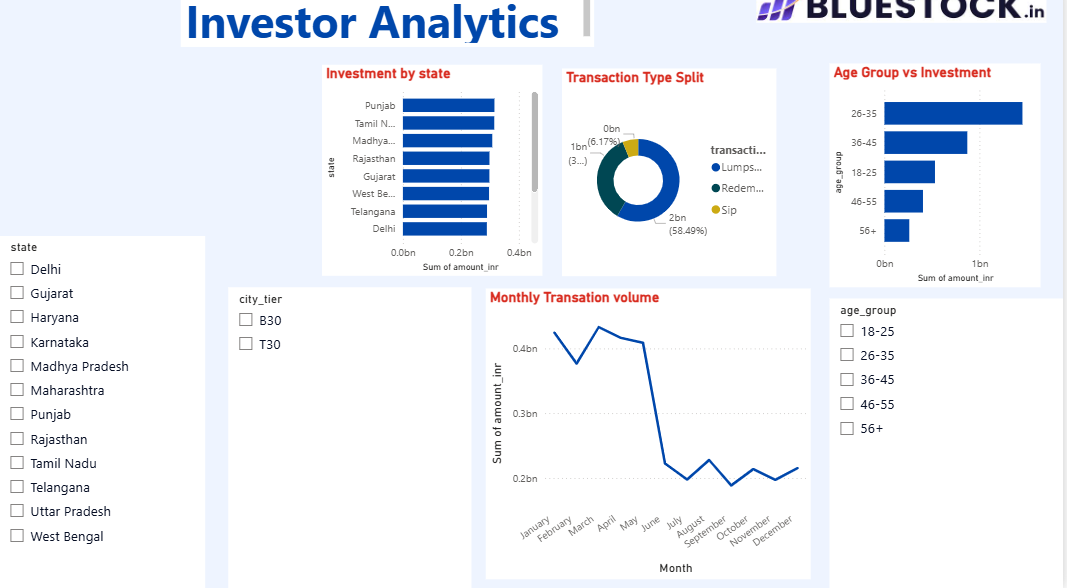

This screenshot's page, from the dashboard's own definition file:
{"tool":"powerbi","page":{"name":"Investor Analytics","canvas":[1280,720],"ordinal":2},"visuals":[{"type":"barChart","title":"Investment by state","fields":{"Category":["clean_transactions.state"],"Y":["Sum(clean_transactions.amount_inr)"]},"box":[9.6,0,279.9,279.9],"z":0},{"type":"donutChart","title":" Transaction Type Split","fields":{"Category":["clean_transactions.transaction_type"],"Y":["Sum(clean_transactions.amount_inr)"]},"box":[299.1,59,279.9,279.9],"z":1000},{"type":"clusteredBarChart","title":"Age Group vs Investment","fields":{"Category":["clean_transactions.age_group"],"Y":["Sum(clean_transactions.amount_inr)"]},"box":[849.4,79.6,279.9,279.9],"z":2000},{"type":"slicer","fields":{"Values":["clean_transactions.state"]},"box":[9.6,297.8,245.6,422.6],"z":3000},{"type":"slicer","fields":{"Values":["clean_transactions.city_tier"]},"box":[267.6,359.5,290.9,360.9],"z":4000},{"type":"lineChart","title":" Monthly Transation volume","fields":{"Category":["clean_transactions.transaction_date.Variation.Date Hierarchy.Month"],"Y":["Sum(clean_transactions.amount_inr)"]},"box":[612,373.2,387,347.2],"z":4001},{"type":"image","title":"investor Analytics","box":[439.1,0,388.3,79.6],"z":4002},{"type":"slicer","fields":{"Values":["clean_transactions.age_group"]},"box":[999,373,281,347],"z":4003},{"type":"textbox","box":[944.1,17.8,336.2,61.7],"z":4004}]}

Visuals, with their boxes in screenshot pixels (x1, y1, x2, y2), scaled from the page's 1280x720 canvas onto the 1067x588 screenshot:
"Investment by state" barChart: [8, 0, 241, 229]
" Transaction Type Split" donutChart: [249, 48, 483, 277]
"Age Group vs Investment" clusteredBarChart: [708, 65, 941, 294]
slicer - clean_transactions.state: [8, 243, 213, 587]
slicer - clean_transactions.city_tier: [223, 294, 466, 587]
" Monthly Transation volume" lineChart: [510, 305, 833, 587]
"investor Analytics" image: [366, 0, 690, 65]
slicer - clean_transactions.age_group: [833, 305, 1066, 587]
textbox: [787, 15, 1066, 65]
